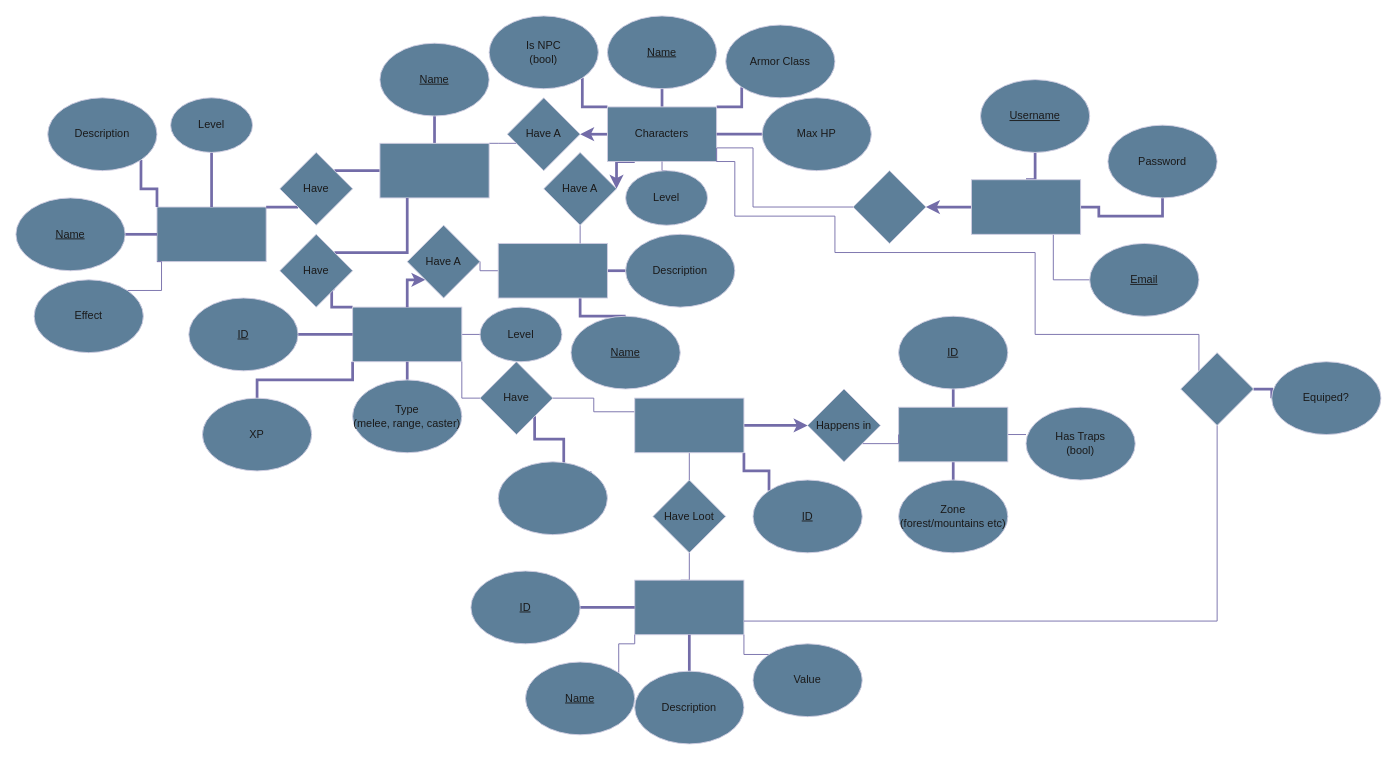
The diagram is 1397 pixels wide and 760 high, and some of its shapes have lost their labels. The shapes that lost their labels are listed below. From the top down, each one's centre as x and y in pixels, then its label:
At pixel 434 170: "Classes".
At pixel 889 206: "Plays".
At pixel 1026 206: "Users".
At pixel 211 234: "Abilities".
At pixel 552 270: "Races".
At pixel 407 334: "Mobs".
At pixel 1217 388: "Inventory".
At pixel 689 425: "Encounters".
At pixel 953 434: "Area".
At pixel 552 498: "# of Enemies (default 1)".
At pixel 689 607: "Items".
